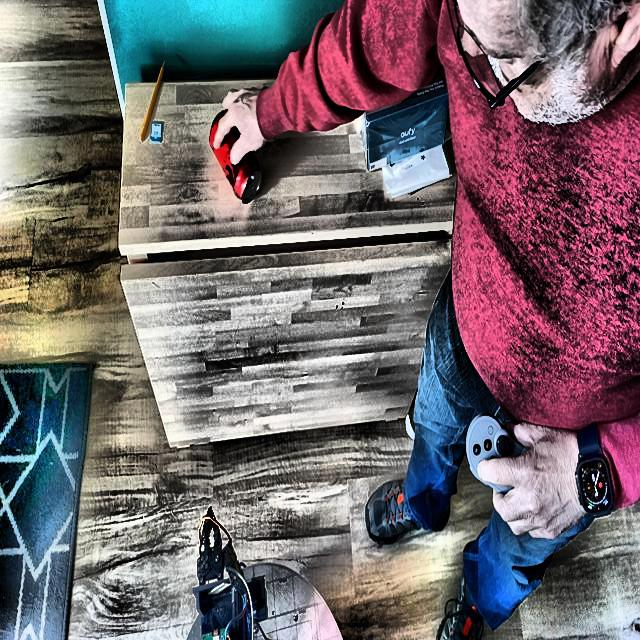CokeZero-can: (207, 107, 266, 207)
